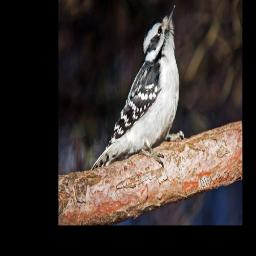Woodpecker: (91, 1, 187, 170)
